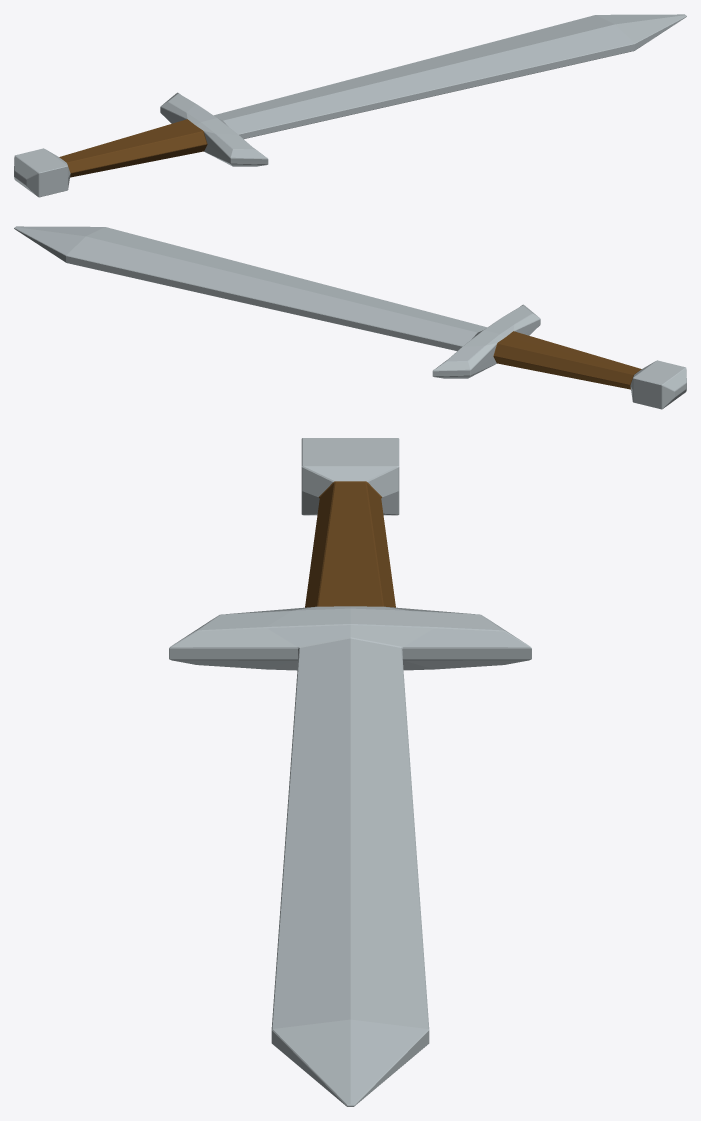
Rendered from Sword.fbx.
The picture shows the model from 3 angles, top to bottom: view 1: azimuth 30°, elevation 25°; view 2: azimuth 150°, elevation 25°; view 3: azimuth 270°, elevation 25°; orthographic projection. The views are drawn at different scales.
Visible parts, largest first — view 1: Sword; view 2: Sword; view 3: Sword.
Part boxes in pixels (<box>): Sword: <box>14,14,686,197</box>; Sword: <box>14,226,686,409</box>; Sword: <box>169,438,531,1106</box>.
Size of the model in its own units: 385 by 13.64 by 90.97.
